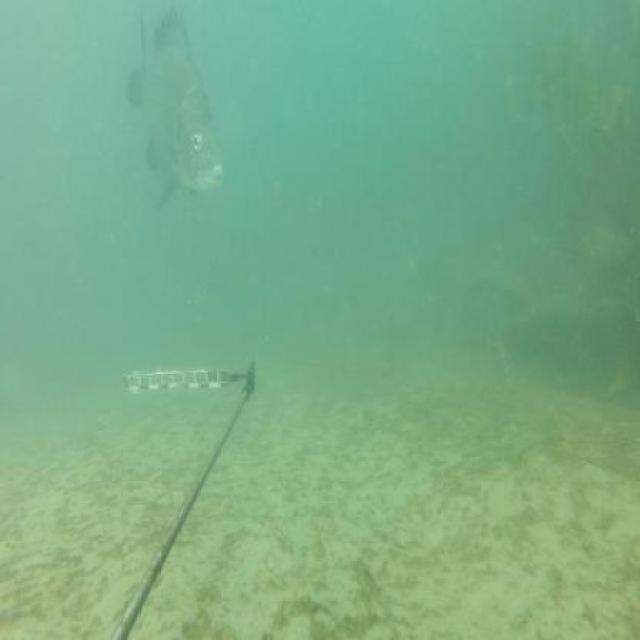acanthopagrus_palmaris: (127, 9, 227, 212)
